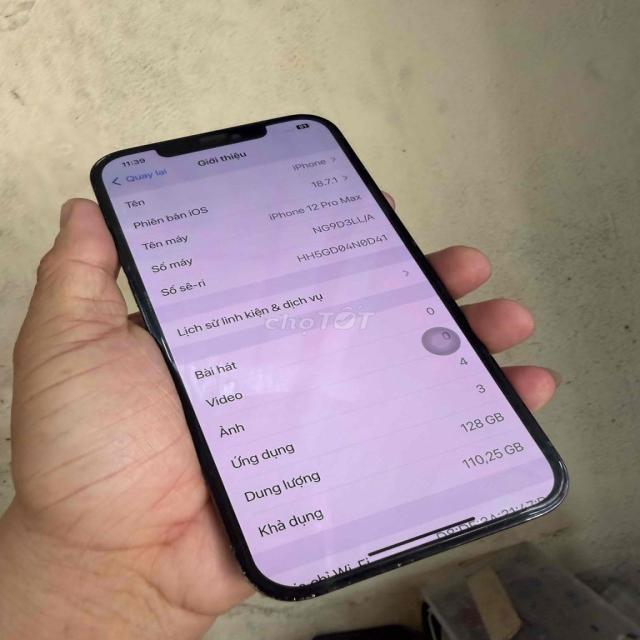gen_12_13: (75, 108, 569, 610)
